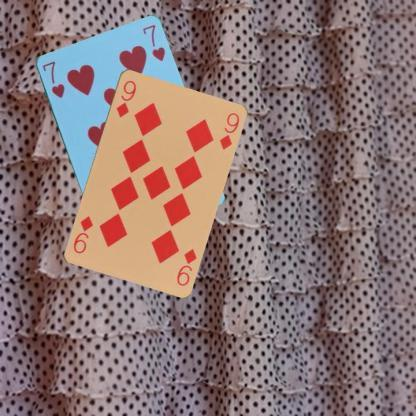7h: (39, 58, 66, 100)
9d: (113, 76, 138, 118), (174, 245, 198, 288)
